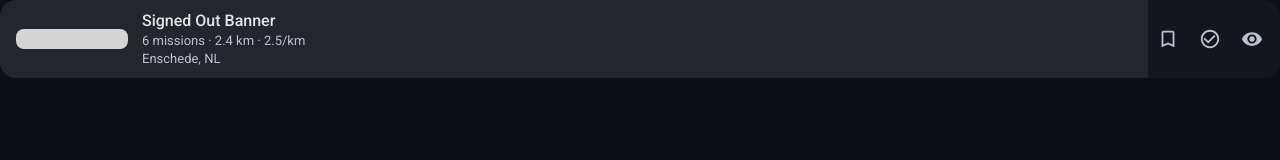
Test: compact list actions ask signed-out visitors to sign in instead of failing
This screenshot has width=1280, height=160.
Click the button named "to do" at (1168, 39), box [1148,19,1188,59]
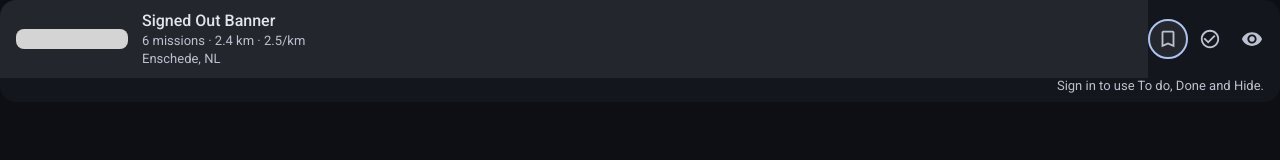
Expected: the text "Sign in to use To do, Done and Hide." is shown, [1057,78,1264,93]
